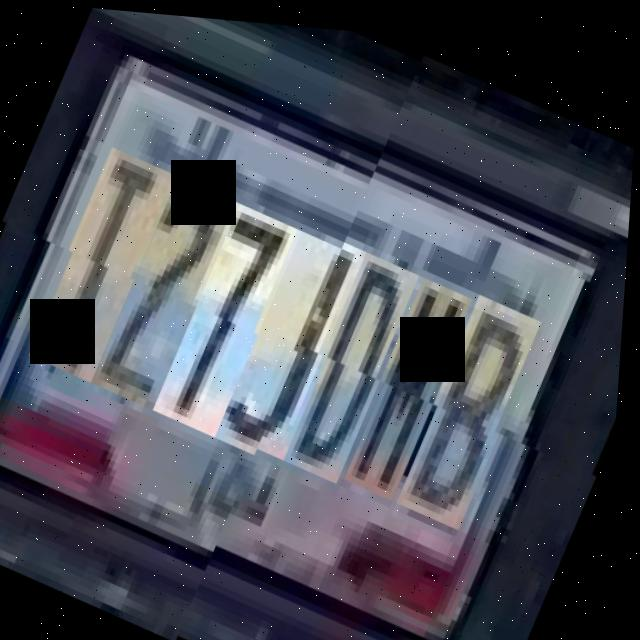2: (94, 167, 243, 412)
7: (156, 193, 306, 438)
B: (399, 288, 548, 533)
D: (285, 248, 425, 489)
I: (32, 141, 182, 386)
J: (218, 220, 372, 466)
M: (345, 272, 479, 504)
